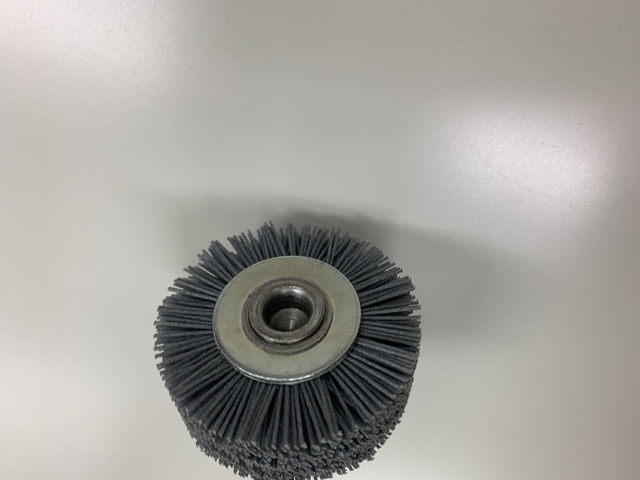Wheel Brush: (137, 208, 441, 480), (172, 223, 396, 480)
